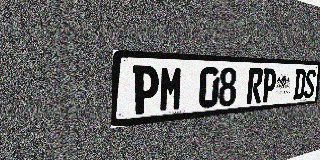0: (198, 67, 220, 109)
8: (218, 67, 238, 107)
D: (293, 69, 306, 100)
M: (159, 66, 184, 113)
P: (132, 65, 160, 115), (261, 68, 277, 103)
R: (246, 68, 263, 104)
S: (304, 69, 316, 99)
